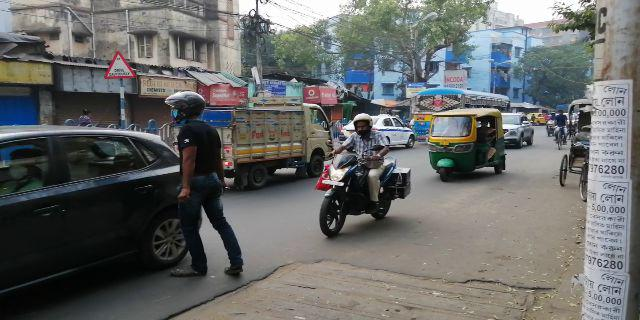Autorickshaw: (428, 115, 507, 176)
Car: (7, 123, 161, 283)
Minitruck: (197, 97, 326, 187)
Motorbike: (317, 115, 404, 239)
